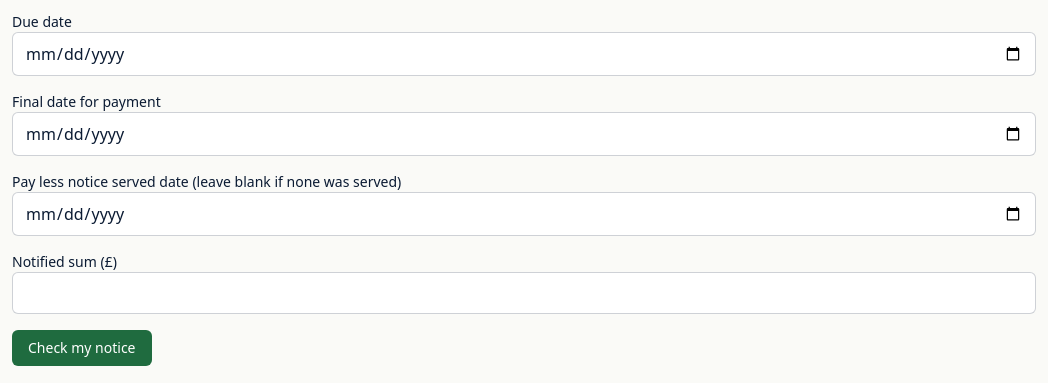
Scenario: NoticeForm › shows the smash-and-grab result after submitting dates with no pay less notice
The width and height of the screenshot is (1048, 383).
Step 1. Type "2026-06-01" into the date field labelled "Due date" → (524,54), box [12, 32, 1036, 76]
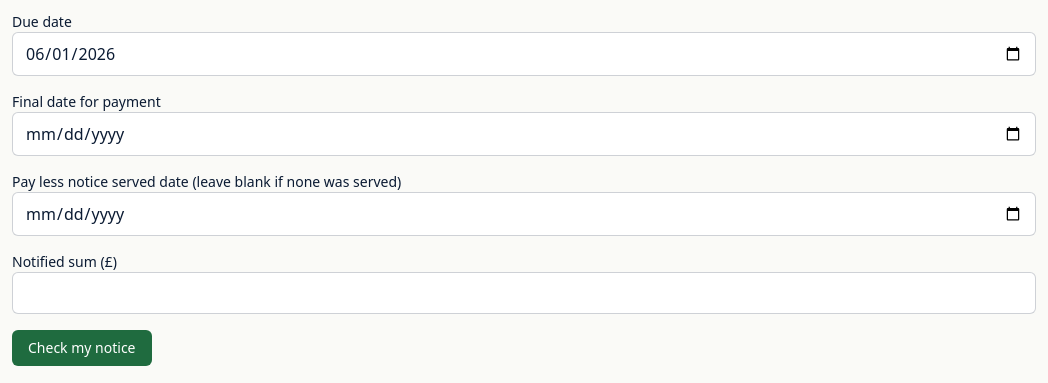
Step 2. Type "2026-06-15" into the date field labelled "Final date for payment" → (524,134), box [12, 112, 1036, 156]
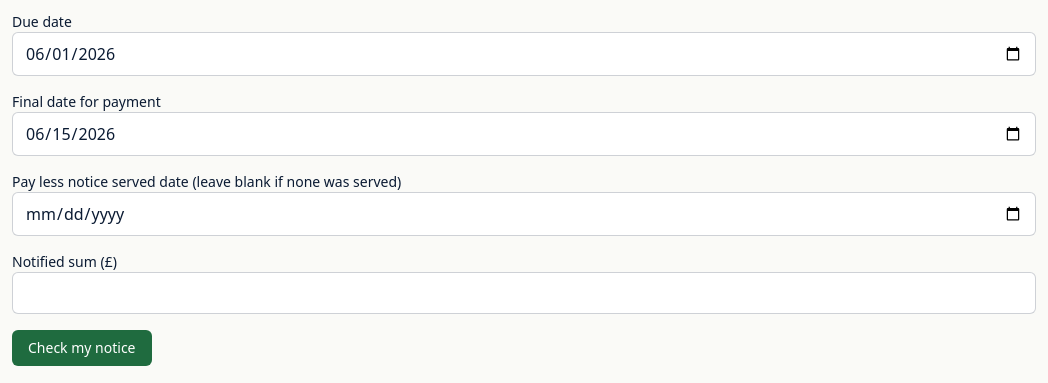
Step 3. Type "10000" into the number field labelled "Notified sum (£)" → (524,293), box [12, 272, 1036, 314]
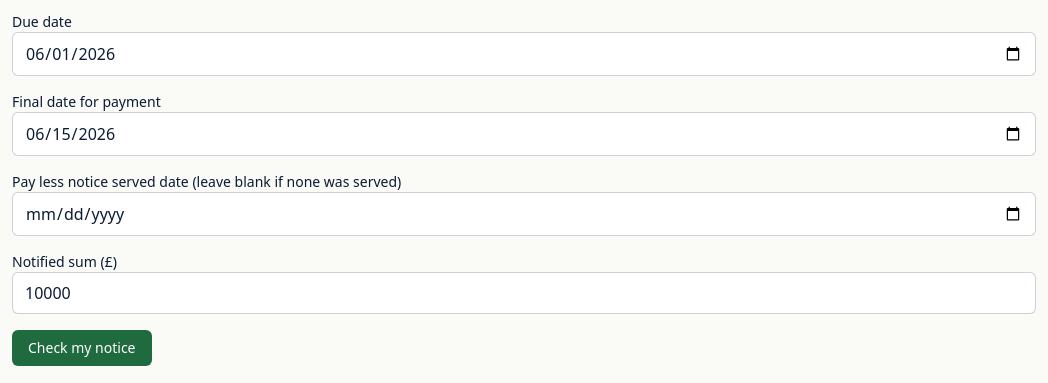
Step 4. Click the button "Check my notice" → (82,348), box [12, 330, 152, 366]
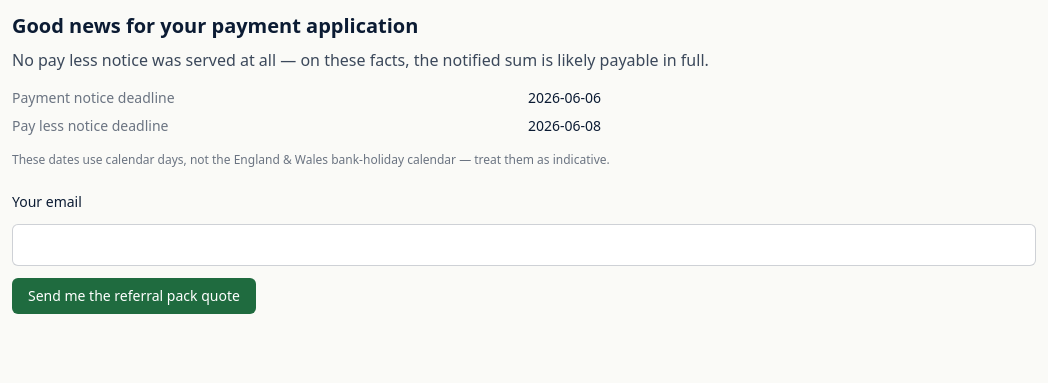
Now the text "likely payable in full" is shown, box [12, 49, 709, 71]
